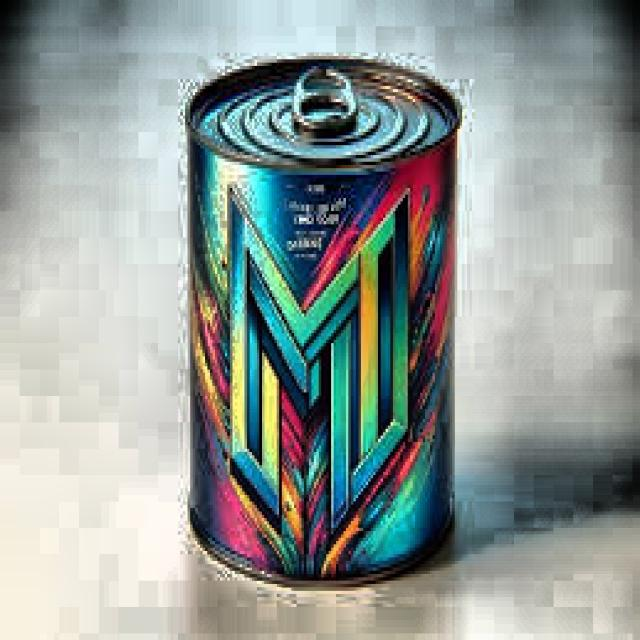can: (172, 41, 465, 599)
